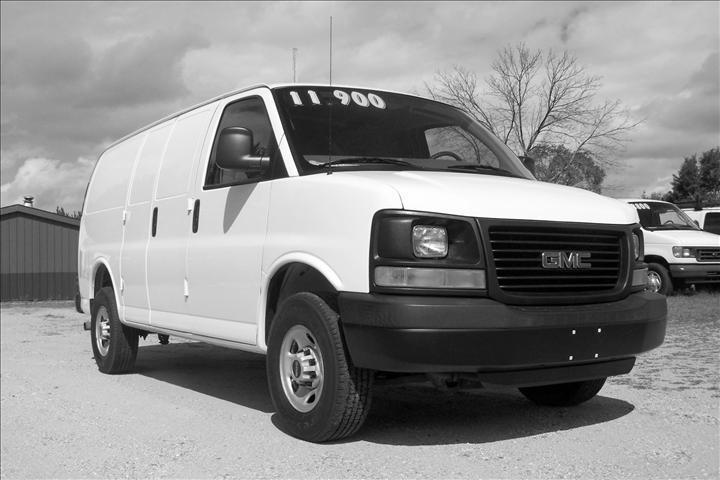car: (73, 81, 674, 446)
